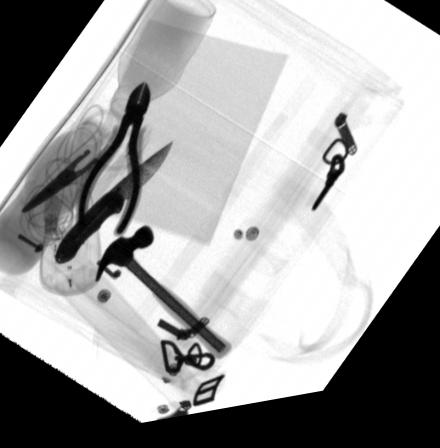Hammer: (94, 229, 234, 368)
Knife: (52, 146, 174, 267)
Pliers: (73, 86, 151, 245)
Scissors: (18, 109, 154, 217)
